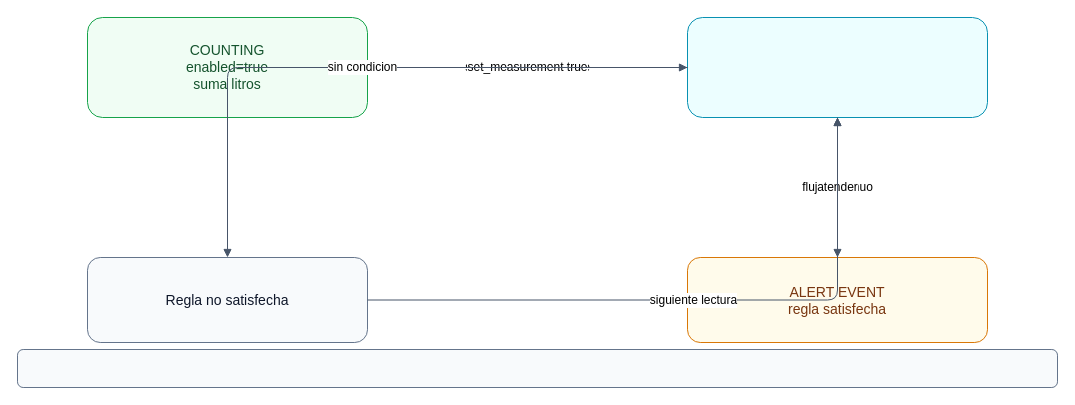
This 1075x405 diagram has some shape labels left out. Each missing label, with the centre of its shape:
LEAK WATCH enabled=false flujo/pulsos siguen: point (837, 67)
Modo fuga mantiene ESP32 activo; congela volumen y deja evaluar reglas.: point (537, 368)
